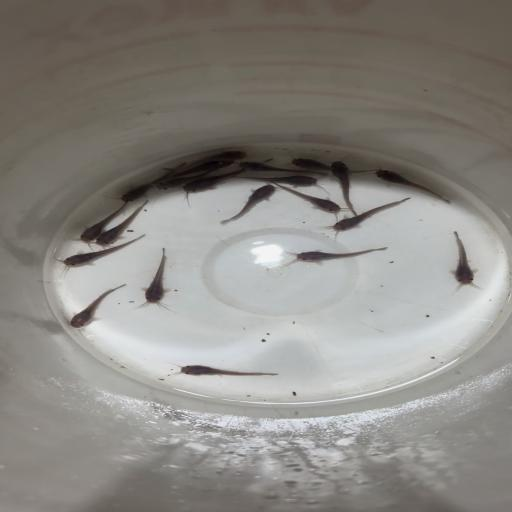lele: (56, 232, 148, 275), (181, 156, 277, 196), (328, 196, 413, 238), (370, 169, 454, 204), (115, 162, 188, 202), (66, 283, 127, 330), (93, 200, 152, 248), (277, 244, 394, 268), (132, 247, 176, 310), (72, 198, 132, 241), (220, 184, 278, 228), (158, 358, 283, 378), (444, 230, 484, 292), (325, 161, 369, 217), (270, 181, 342, 214), (287, 154, 378, 175), (150, 170, 218, 196), (171, 150, 250, 170), (236, 160, 326, 176), (156, 160, 238, 177), (233, 174, 324, 188)
